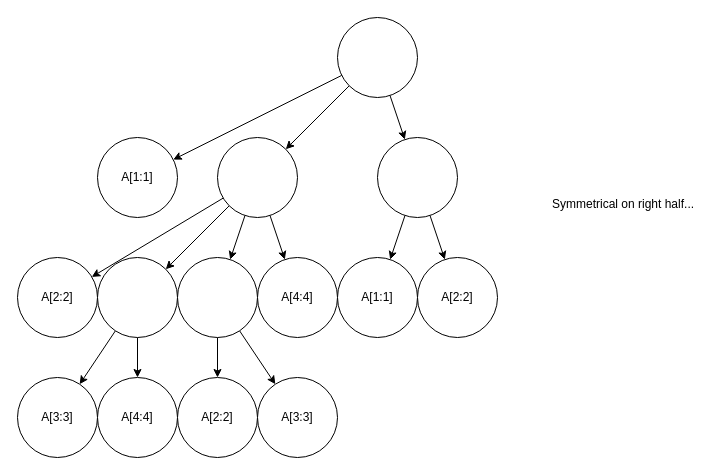
This 728x475 diagram has some shape labels left out. The shapes that lost their labels are listed below. From the top down, each one's centre as x and y in pixels, then its label:
(377,57): A[1:4]
(257,177): A[2:4]
(417,177): A[1:2]
(137,297): A[3:4]
(217,297): A[2:3]
